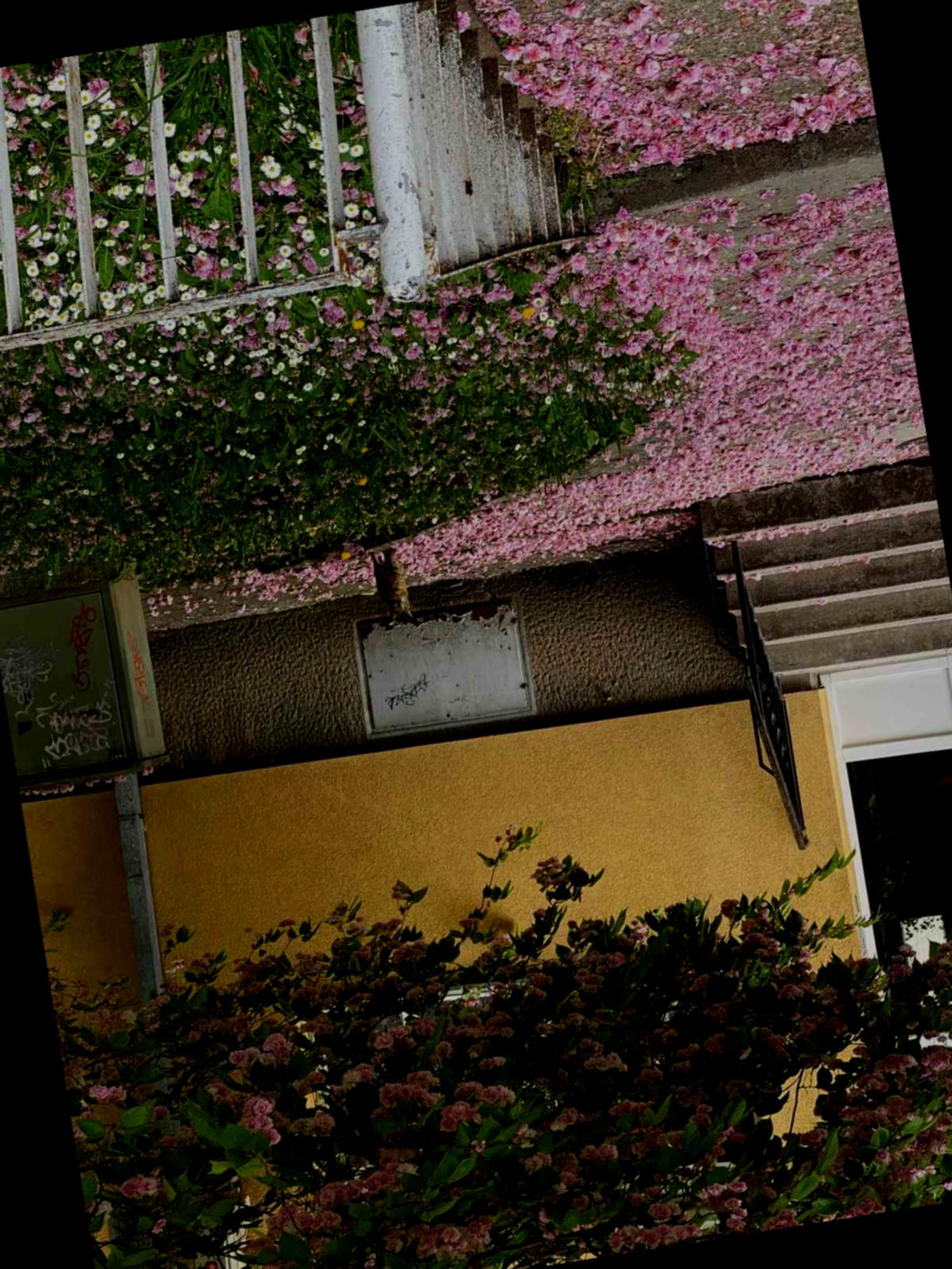macka: (370, 546, 414, 625)
